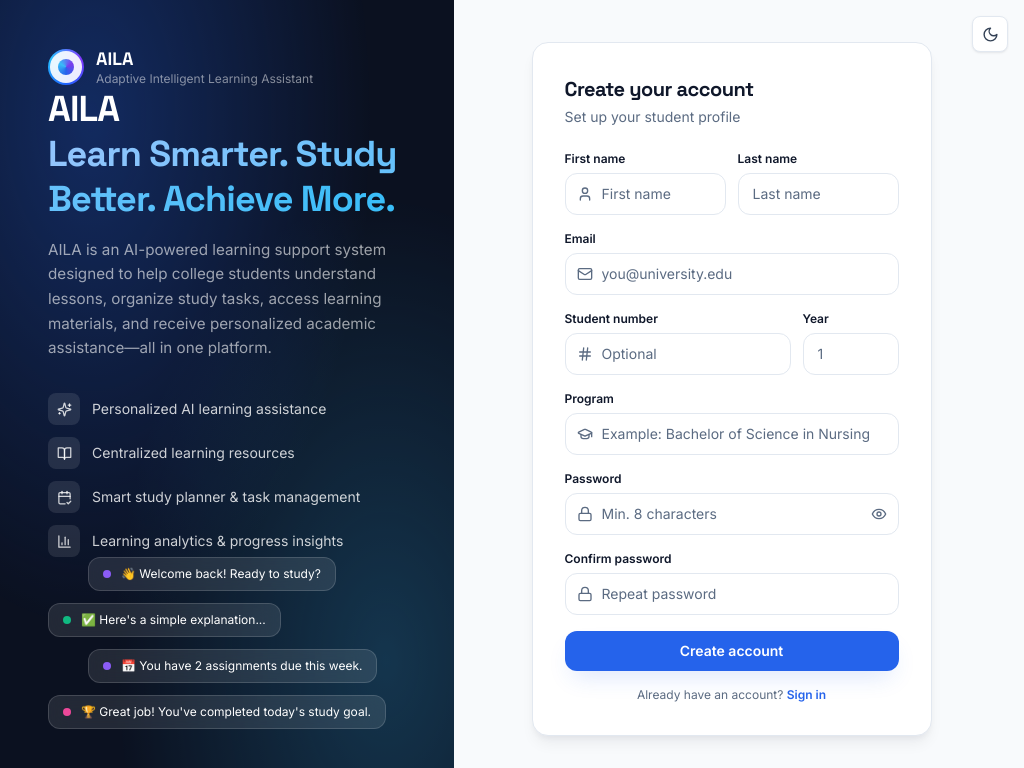
Test: RegisterPage › after a successful registration, shows the "Check your email" panel with a masked address
The image size is (1024, 768).
Type "Ada" into the field with placeholder "First name". click: (645, 194)
box: [564,172,726,214]
Type "Lovelace" into the field with placeholder "Last name". click: (818, 194)
box: [738,172,898,214]
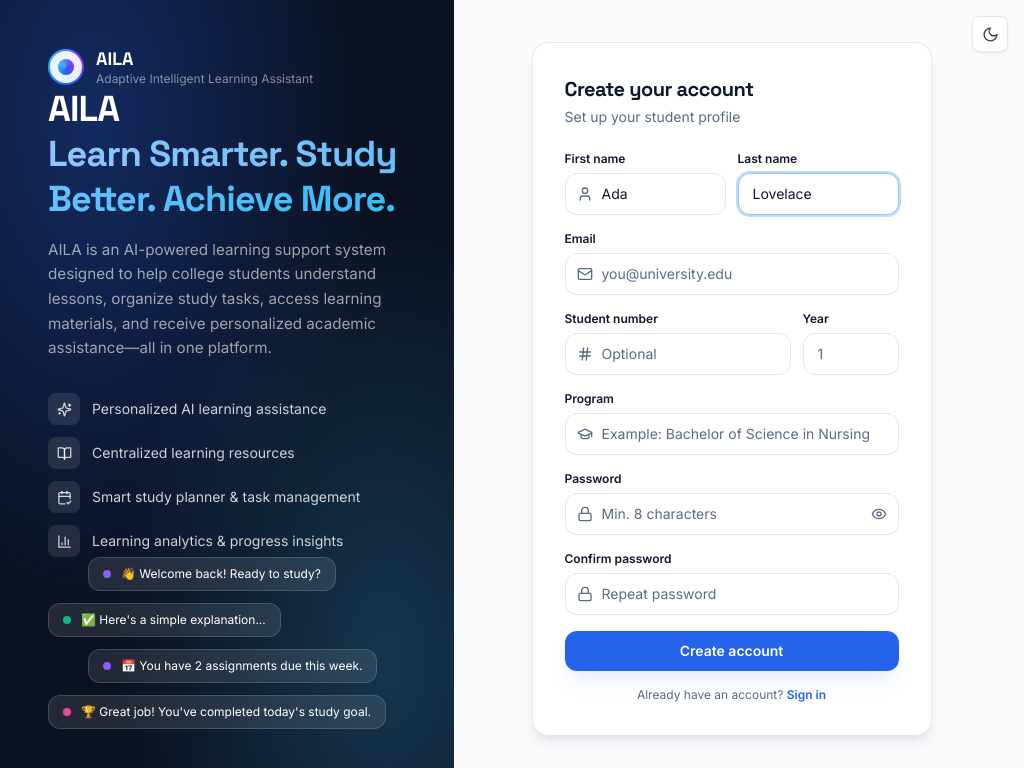
Type "ada@example.com" into the field with placeholder "you@university.edu". click: (732, 274)
box: [564,252,898,294]
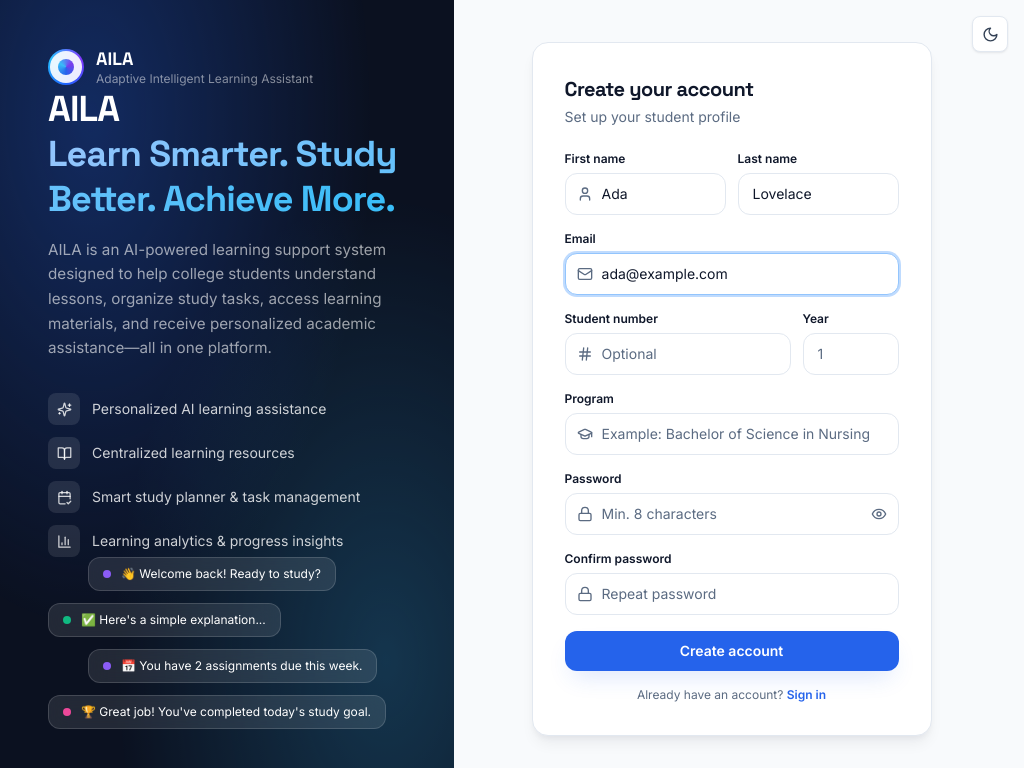
Type "Computer Science" into the field with placeholder "Example: Bachelor of Science in Nursing". click: (732, 434)
box: [564,412,898,454]
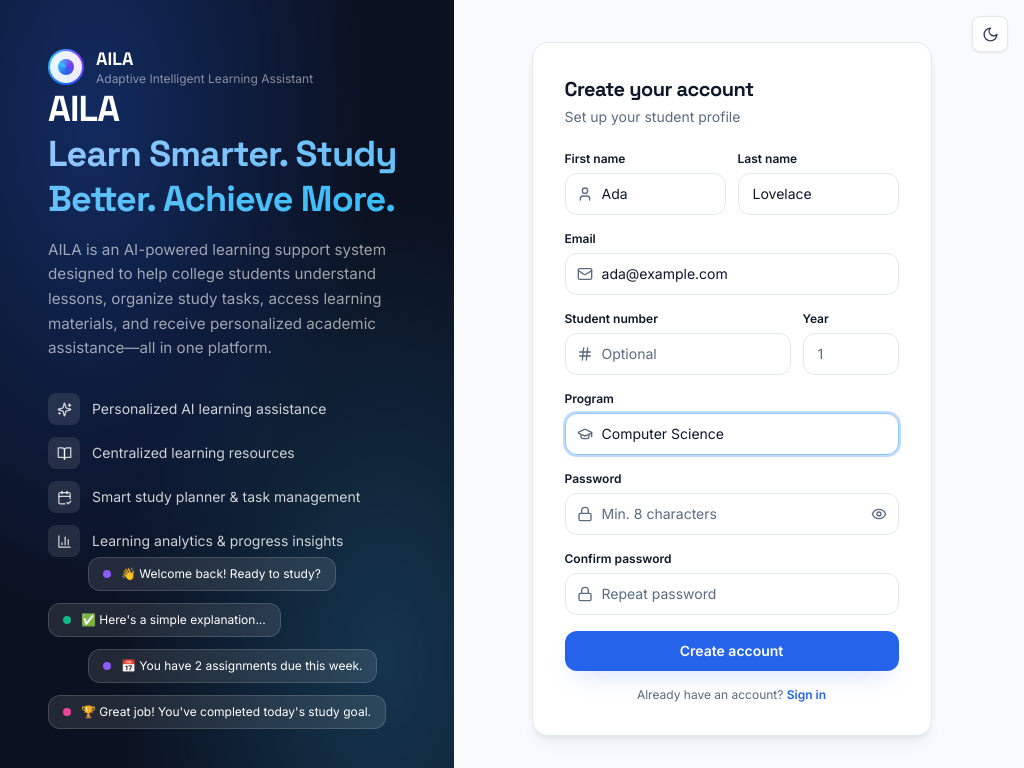
Type "Password1!" into the password field with placeholder "Min. 8 characters". click: (732, 514)
box: [564,492,898,534]
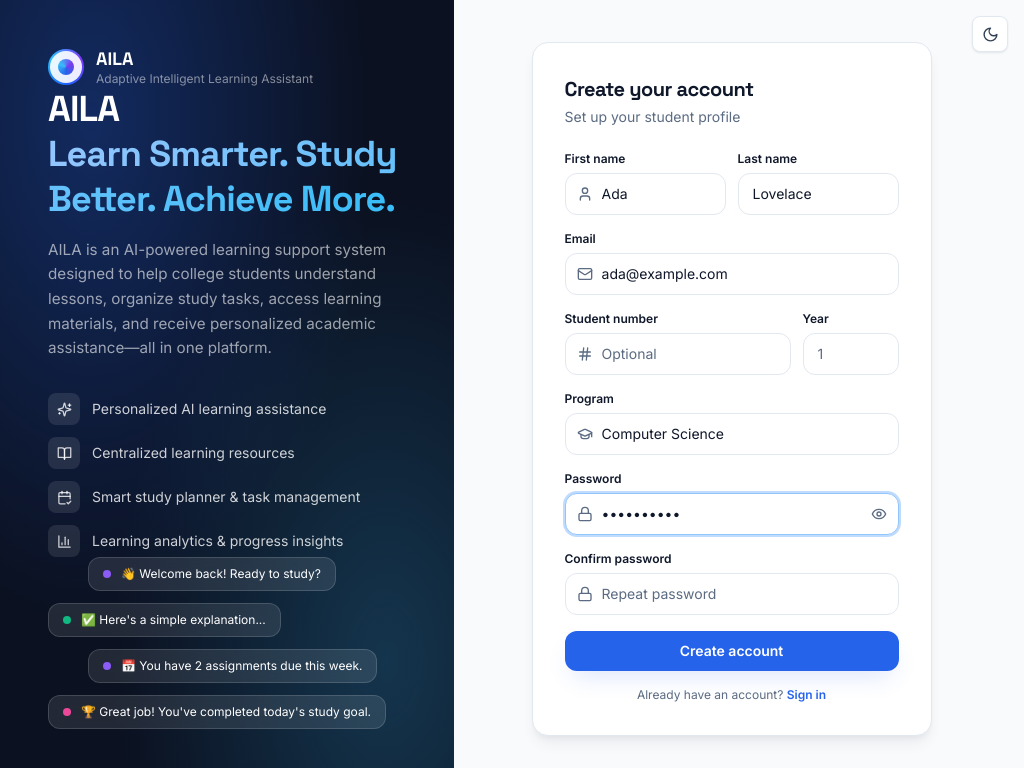
Type "Password1!" into the password field with placeholder "Repeat password". click: (732, 594)
box: [564,572,898,614]
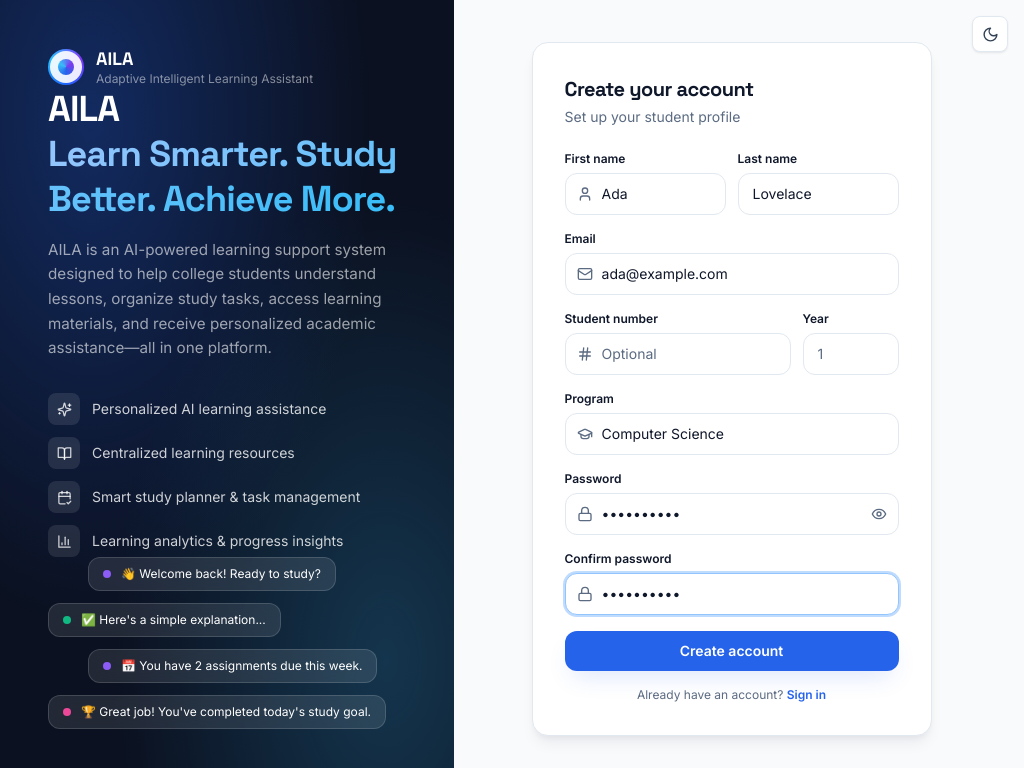
Click the button "Create account". click: click(732, 650)
box: [564,630,898,670]
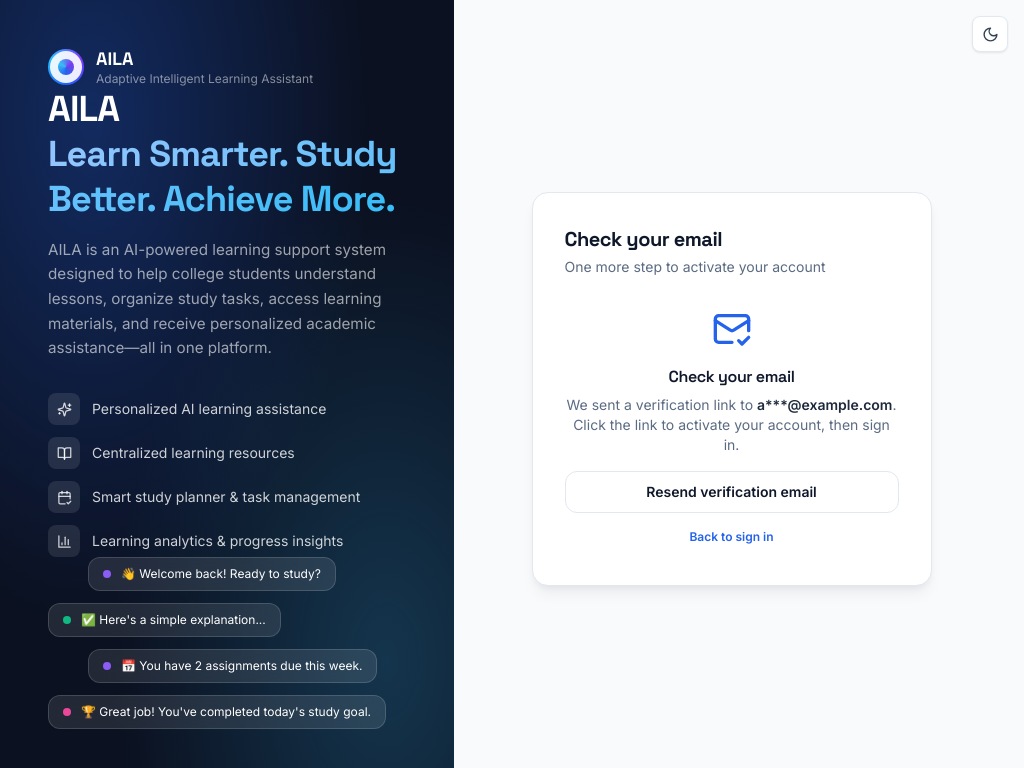
Result: the text "One more step to activate your account" is shown at [564,258,826,274]
Result: the text "a***@example.com" is shown at [757,396,892,412]
